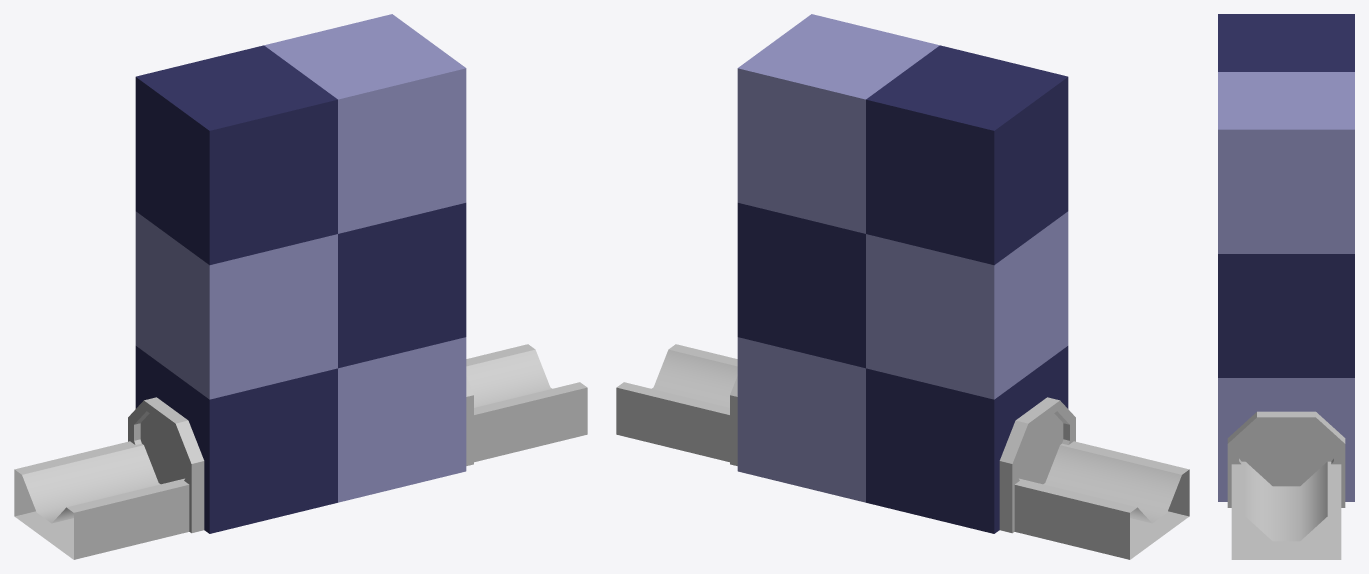
File: SmallStorage_StorageLooseMicro.obj
3 renders of one model, left to right at view 1: azimuth 30°, elevation 25°; view 2: azimuth 150°, elevation 25°; view 3: azimuth 270°, elevation 25°, orthographic. The views are drawn at different scales.
Bounding box in the file's own units: 8 × 6 × 2.
